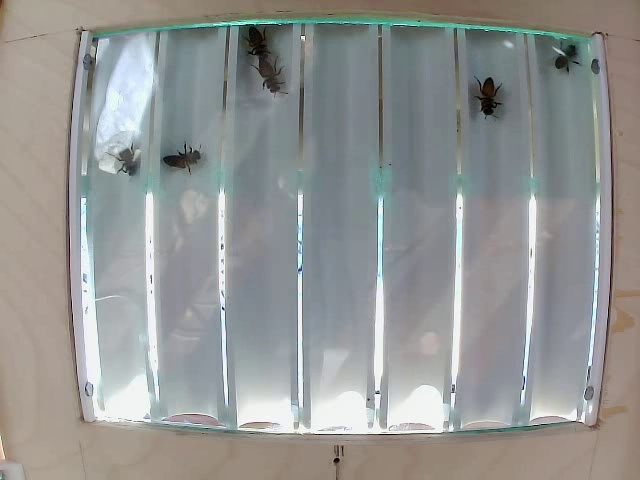bee: (467, 68, 509, 122), (252, 65, 288, 108), (544, 36, 579, 77), (159, 150, 204, 178), (242, 26, 271, 56), (118, 145, 141, 174)
